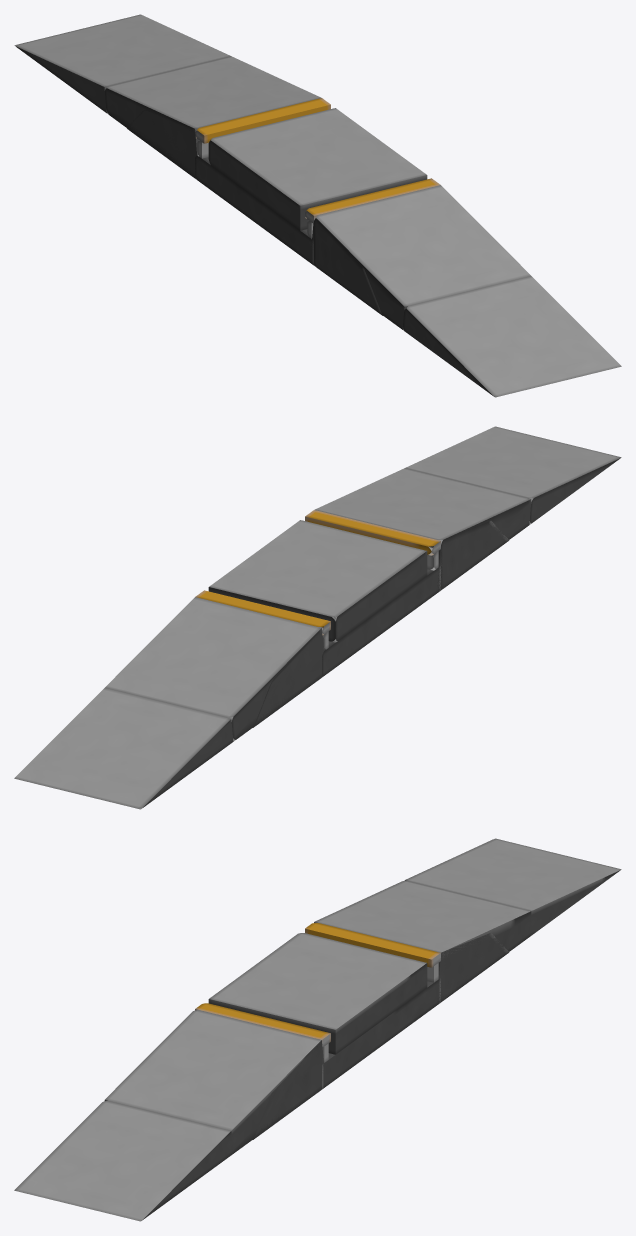
Rendered from highspeed_crossing.obj.
3 views of the same model, one above another, from view 1: azimuth 30°, elevation 25°; view 2: azimuth 150°, elevation 25°; view 3: azimuth 330°, elevation 25° (orthographic).
Parts seen in each view (by area): view 1: RAIL_LEFT, RAIL_RIGHT, RAIL_BASE; view 2: RAIL_RIGHT, RAIL_LEFT, RAIL_BASE; view 3: RAIL_LEFT, RAIL_RIGHT, RAIL_BASE.
Boxes of the visible parts, <box> form: RAIL_LEFT: <box>305,178,621,397</box>; RAIL_RIGHT: <box>14,14,330,179</box>; RAIL_BASE: <box>195,108,427,265</box>; RAIL_RIGHT: <box>14,590,330,809</box>; RAIL_LEFT: <box>305,426,621,590</box>; RAIL_BASE: <box>208,520,440,677</box>; RAIL_LEFT: <box>14,1003,330,1221</box>; RAIL_RIGHT: <box>305,838,621,1004</box>; RAIL_BASE: <box>208,933,440,1089</box>.
Size of the model in its own units: 1 by 0.375 by 6.57.
Materials: 1 (1 with a texture image).
